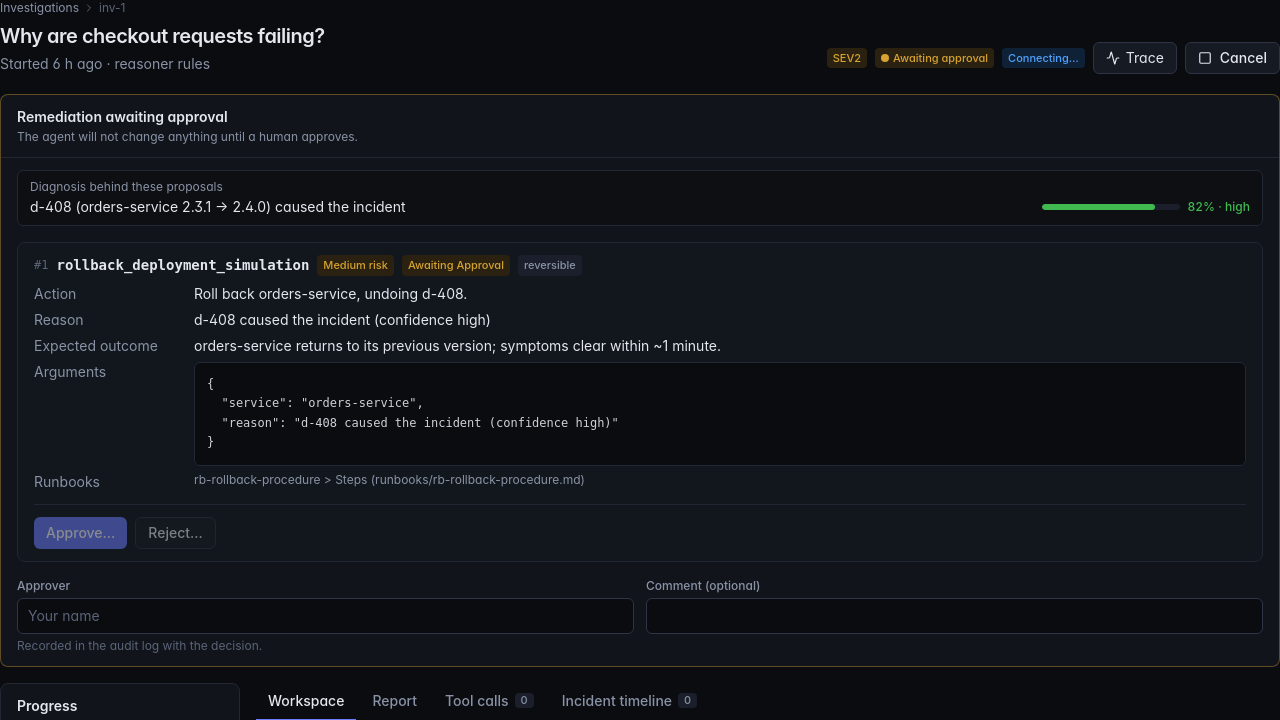
Test: InvestigationPage › surfaces an approval conflict from the API
This screenshot has width=1280, height=720.
Type "Dana" into the field labelled "Approver". click: (326, 616)
box: [17,598,634,634]
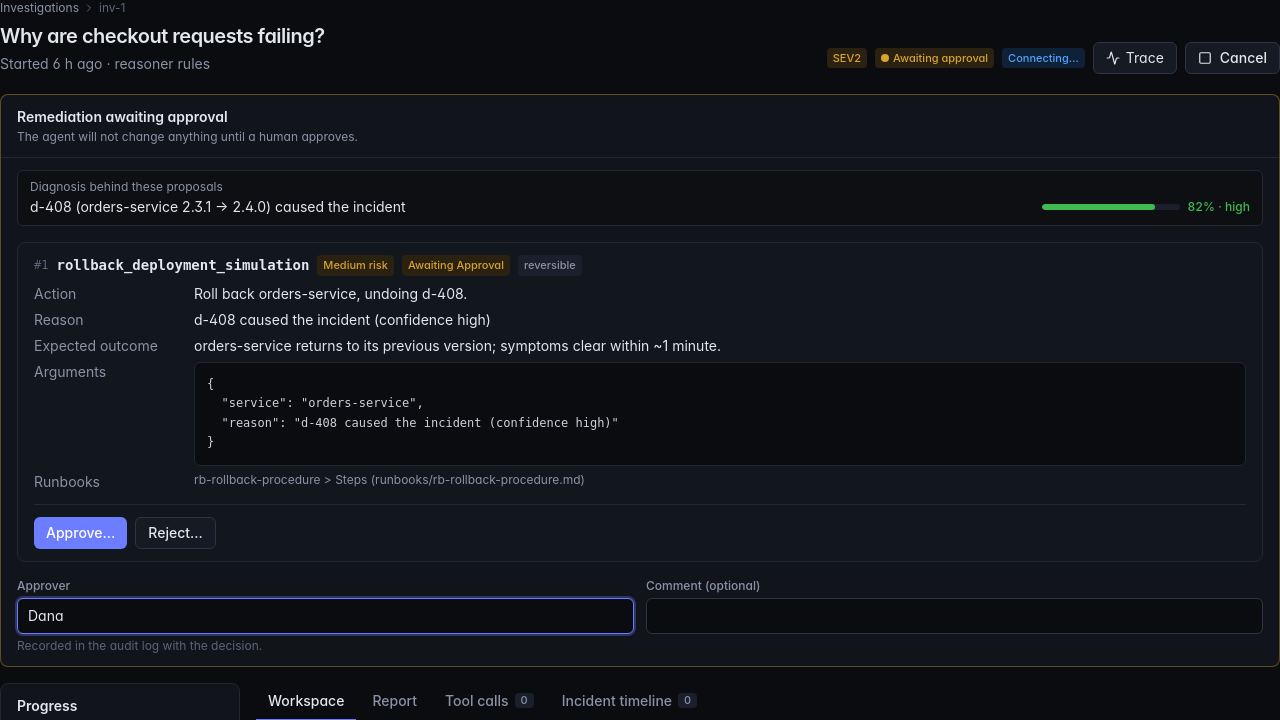
Click the button "Reject…". click: (176, 532)
box: [135,516,216,548]
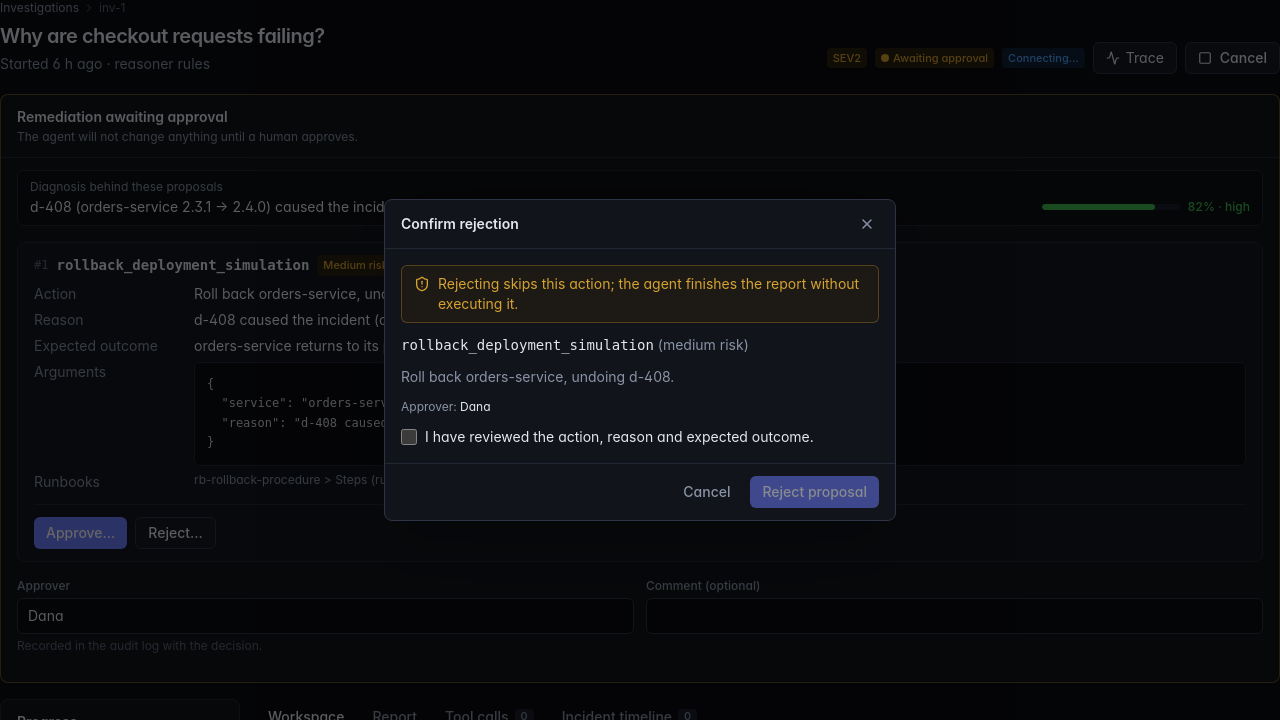
Click the checkbox. click: (409, 437)
box: [401,429,417,445]
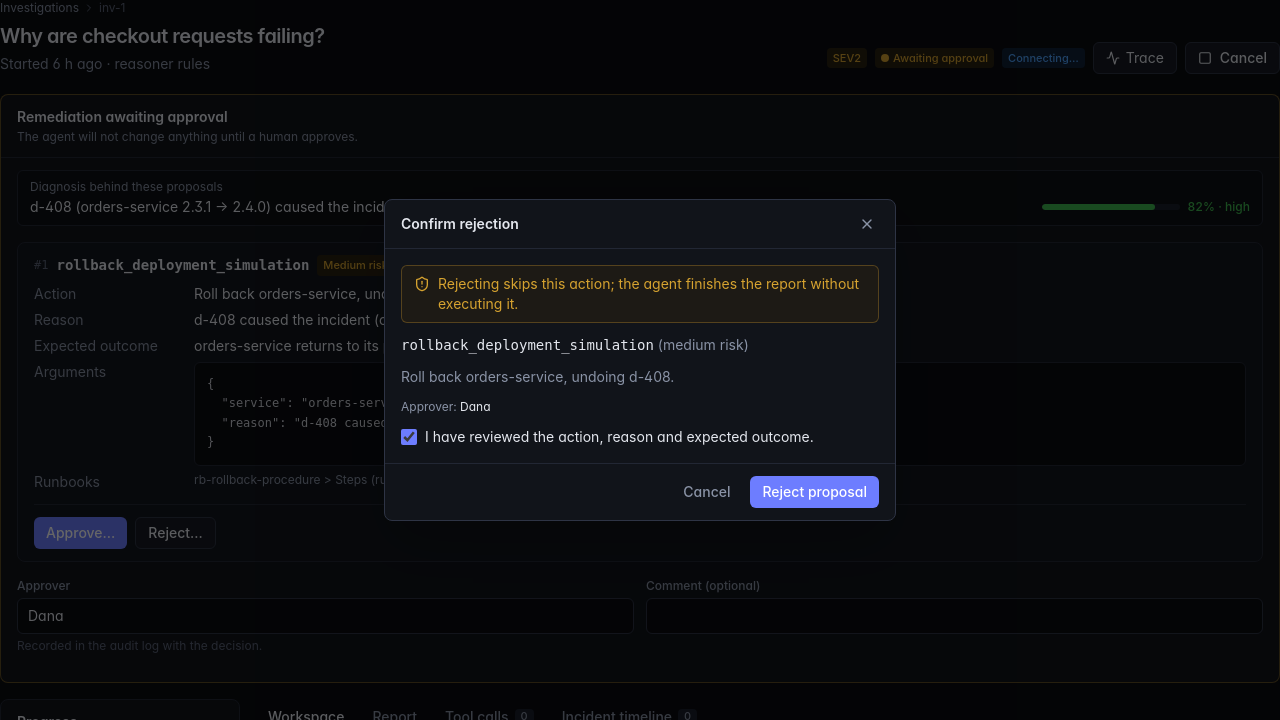
Click the button "Reject proposal". click: (815, 492)
box: [750,476,879,508]
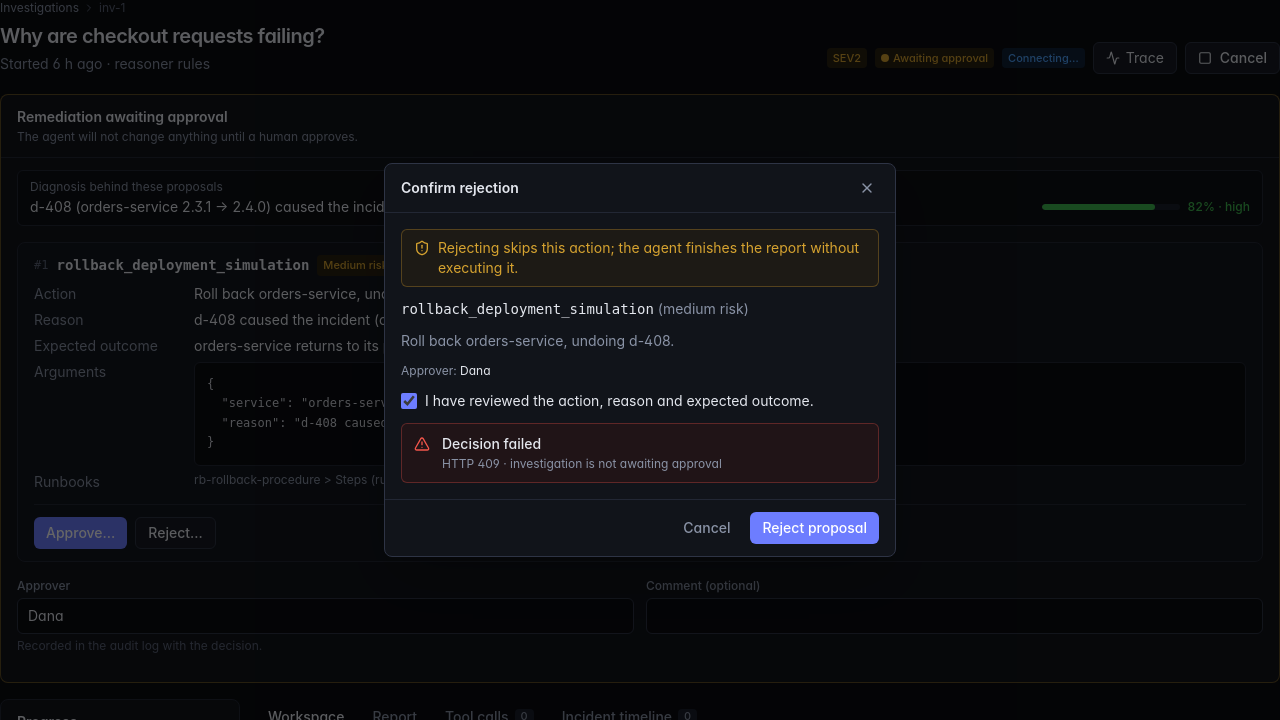
Check: the message shows "investigation is not awaiting approval", box [510,456,722,471]
